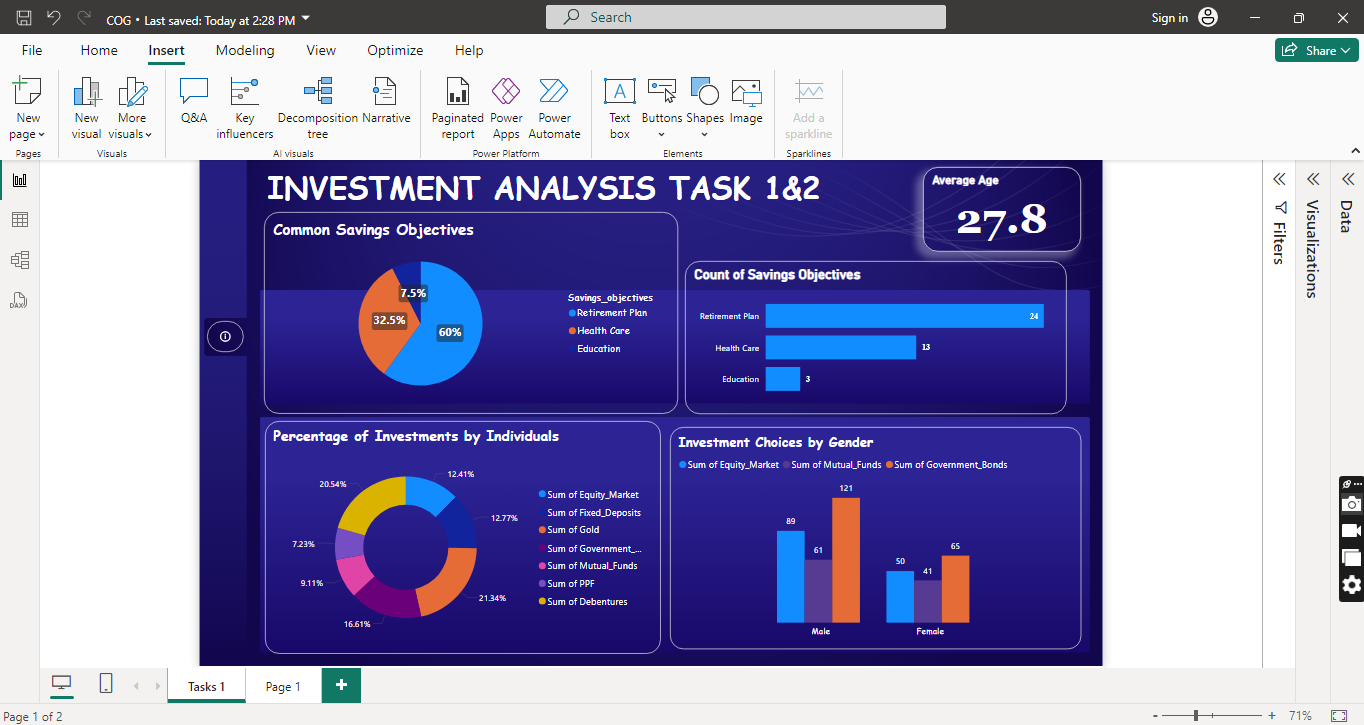

The page's visual inventory and layout, read from the dashboard file:
{"tool":"powerbi","page":{"name":"Tasks 1","canvas":[1280,720],"ordinal":0},"visuals":[{"type":"card","title":"Average Age","fields":{"Values":["Avg(Data_set 2.age)"]},"box":[1026.1,9.9,223.9,120.5],"z":0},{"type":"donutChart","title":"Percentage of Investments by Individuals","fields":{"Y":["Sum(Data_set 2.Equity_Market)","Sum(Data_set 2.Fixed_Deposits)","Sum(Data_set 2.Gold)","Sum(Data_set 2.Government_Bonds)","Sum(Data_set 2.Mutual_Funds)","Sum(Data_set 2.PPF)","Sum(Data_set 2.Debentures)"]},"box":[93.5,369.9,561.3,330.2],"z":1000},{"type":"barChart","title":"Count of Savings Objectives","fields":{"Category":["Data_set 2.Savings_objectives"],"Y":["Data_set 2.count_of_Sav_obj"]},"box":[688.8,143.1,541.4,216.9],"z":2000},{"type":"textbox","box":[92.1,2.8,817.8,70.9],"z":3000},{"type":"pieChart","title":"Common Savings Objectives","fields":{"Category":["Data_set 2.Savings_objectives"],"Y":["Data_set 2.count_of_Sav_obj"]},"box":[92.1,73.7,586.8,286.3],"z":4000},{"type":"clusteredColumnChart","title":"Investment Choices by Gender","fields":{"Category":["Data_set 2.gender"],"Y":["Sum(Data_set 2.Equity_Market)","Sum(Data_set 2.Mutual_Funds)","Sum(Data_set 2.Government_Bonds)"]},"box":[667.6,378.4,582.5,314.6],"z":5000},{"type":"actionButton","box":[11.3,228.2,52.4,43.9],"z":6000},{"type":"slicer","fields":{"Values":["Data_set 2.gender"]},"box":[688.8,66.6,299.1,76.5],"z":7000}]}

Visuals, with their boxes on the page's 1280x720 design canvas (x1, y1, x2, y2). These are canvas units, not pixel positions in the 1364x725 screenshot, which may show the page scaled, cropped or inside an application window:
"Average Age" card: rect(1026, 10, 1250, 130)
"Percentage of Investments by Individuals" donutChart: rect(94, 370, 655, 700)
"Count of Savings Objectives" barChart: rect(689, 143, 1230, 360)
textbox: rect(92, 3, 910, 74)
"Common Savings Objectives" pieChart: rect(92, 74, 679, 360)
"Investment Choices by Gender" clusteredColumnChart: rect(668, 378, 1250, 693)
actionButton: rect(11, 228, 64, 272)
slicer - Data_set 2.gender: rect(689, 67, 988, 143)
